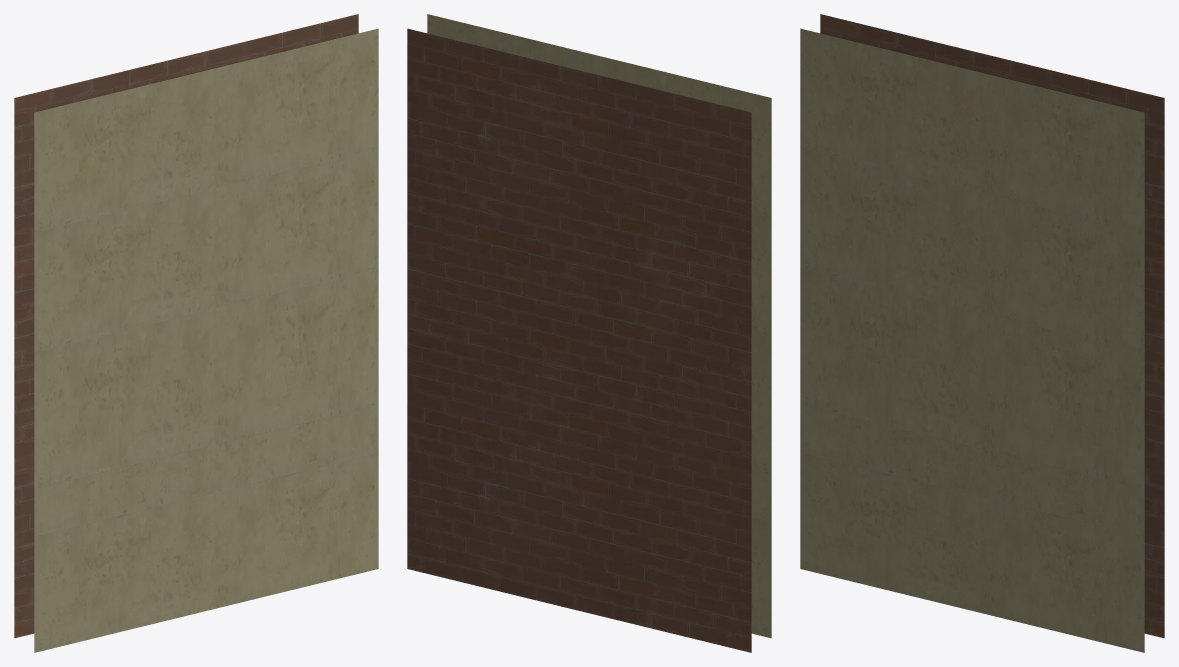
Rendered from Trim_Plain_3.glb.
The picture shows the model from 3 angles, left to right: view 1: azimuth 30°, elevation 25°; view 2: azimuth 150°, elevation 25°; view 3: azimuth 330°, elevation 25°; orthographic projection.
Visible parts, largest first — view 1: Trim_Plain_3; view 2: Trim_Plain_3; view 3: Trim_Plain_3.
Part boxes in pixels (x1=…): Trim_Plain_3: x1=14, y1=14, x2=378, y2=652; Trim_Plain_3: x1=407, y1=14, x2=771, y2=652; Trim_Plain_3: x1=800, y1=14, x2=1164, y2=652.
Size of the model in its own units: 2 by 3 by 0.2.
Materials: 2 (2 with a texture image).
